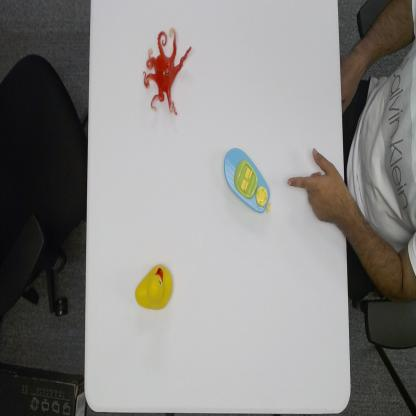Boat: (223, 147, 273, 216)
Duck: (133, 262, 176, 314)
Hand: (284, 143, 348, 232)
Octopus: (141, 27, 194, 118)
